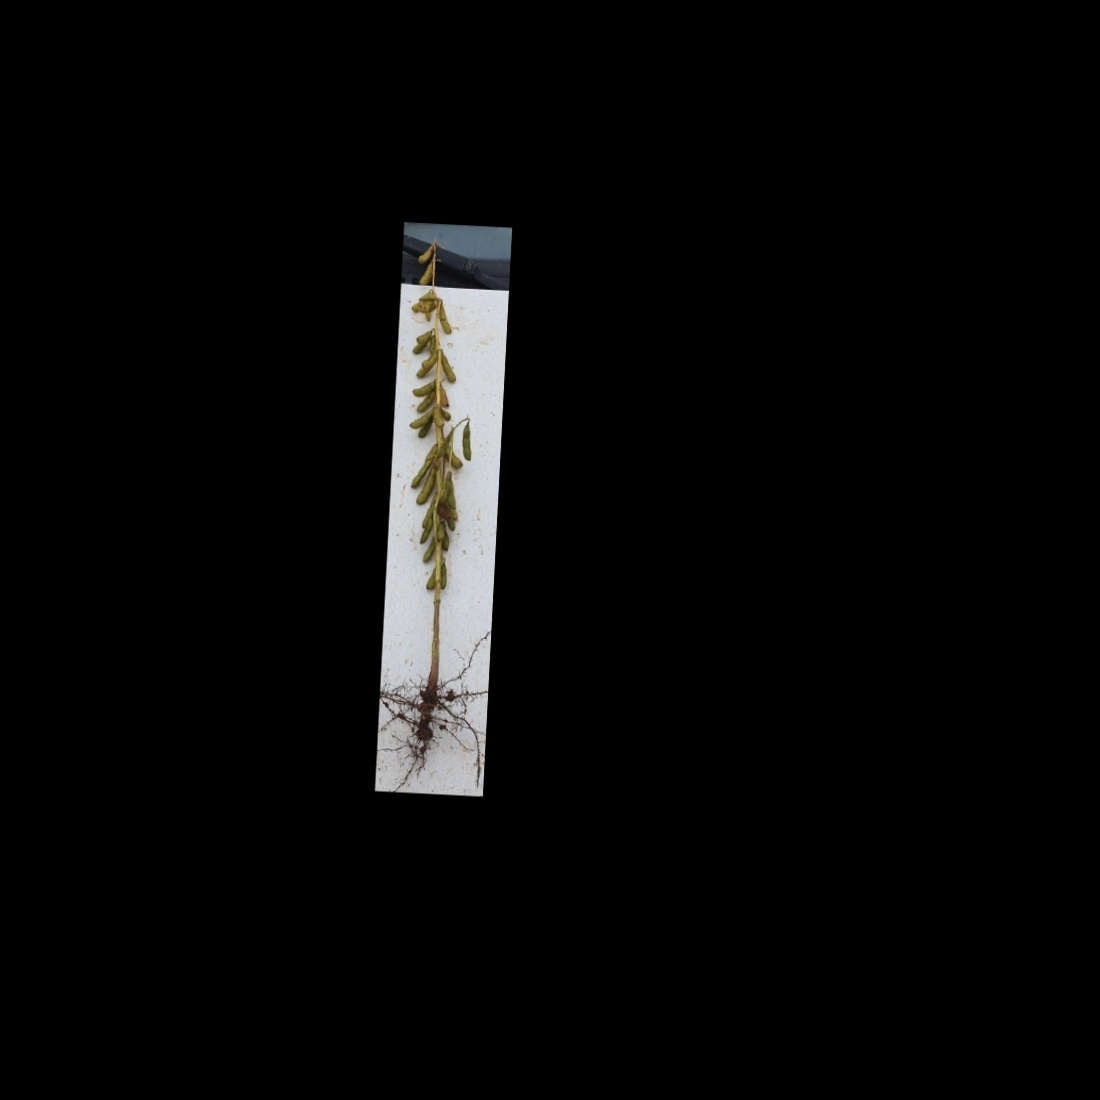pod: (416, 467, 435, 509), (439, 349, 459, 385), (458, 420, 475, 462), (436, 299, 456, 334), (417, 389, 436, 413), (422, 533, 436, 564), (419, 259, 434, 286), (431, 404, 446, 429), (425, 566, 438, 594), (440, 562, 451, 591)
soy: (382, 230, 498, 766)
